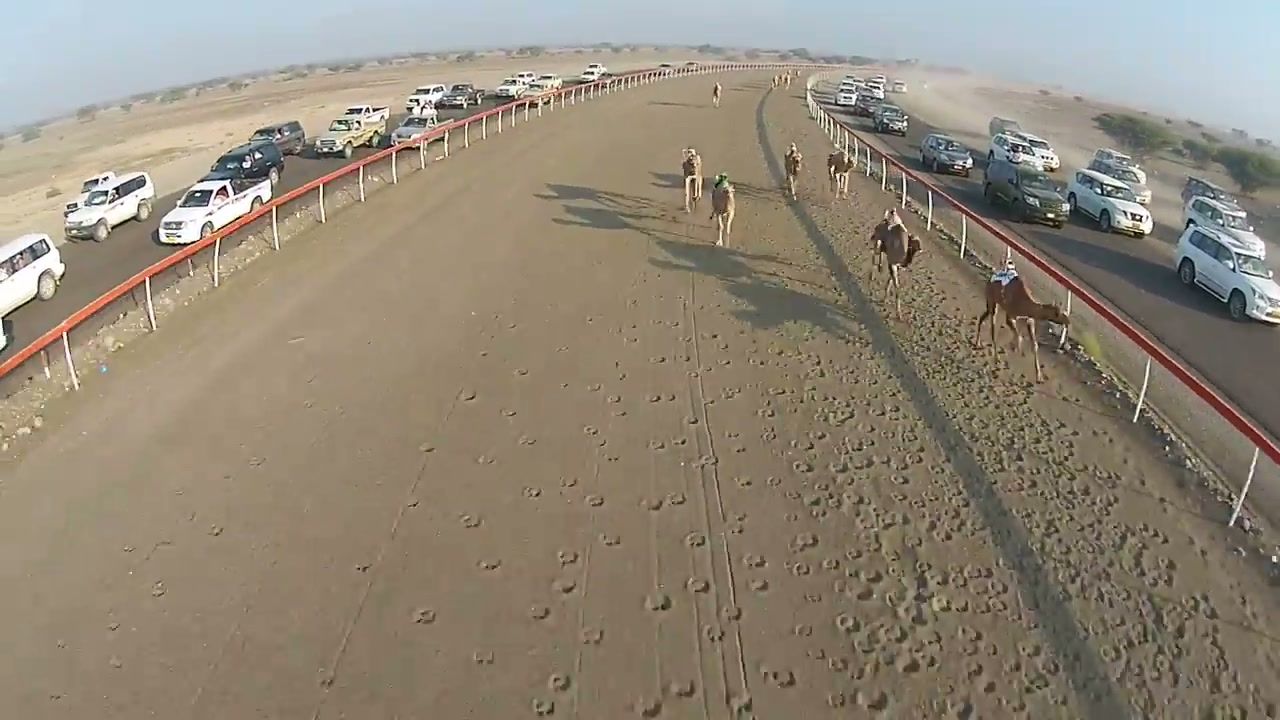animal_foot_print: (341, 163, 1279, 717)
